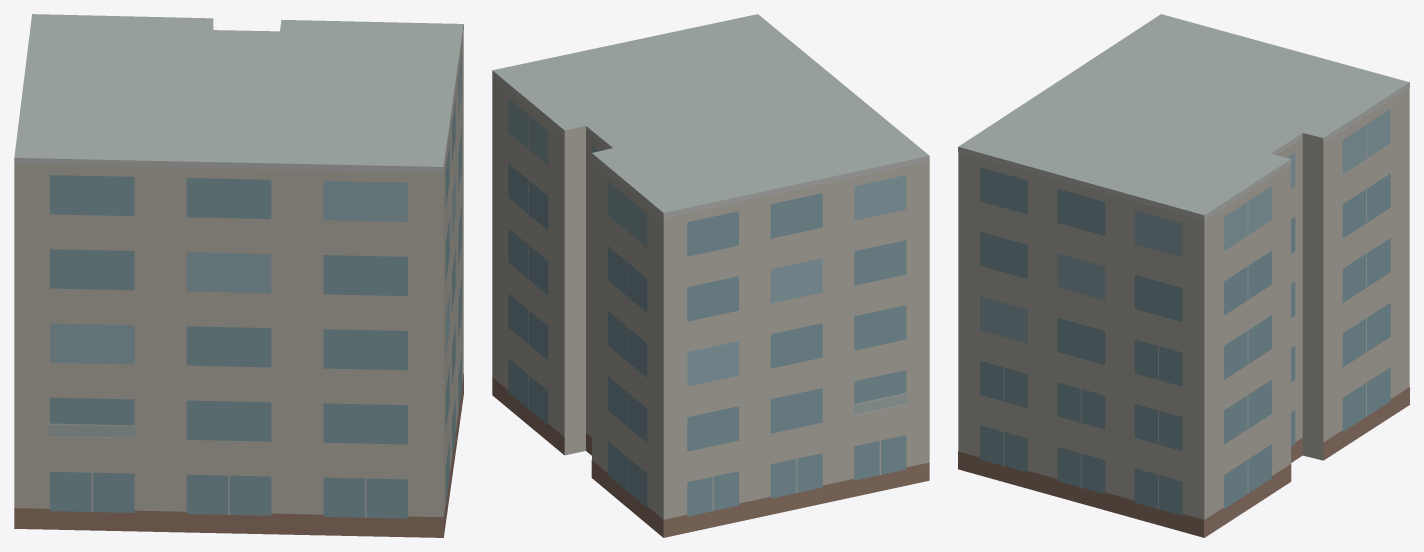
Rendered from survey-upis-32955647.glb.
The picture shows the model from 3 angles, left to right: view 1: azimuth 30°, elevation 25°; view 2: azimuth 150°, elevation 25°; view 3: azimuth 270°, elevation 25°; orthographic projection. The views are drawn at different scales.
Visible parts, largest first — view 1: survey-upis-32955647.tmp; view 2: survey-upis-32955647.tmp; view 3: survey-upis-32955647.tmp.
Part boxes in pixels (x1,y1,x2,y2): survey-upis-32955647.tmp: [14, 14, 463, 537]; survey-upis-32955647.tmp: [492, 14, 929, 537]; survey-upis-32955647.tmp: [958, 14, 1409, 537].
Size of the model in its own units: 19.55 by 14.6 by 18.53.
